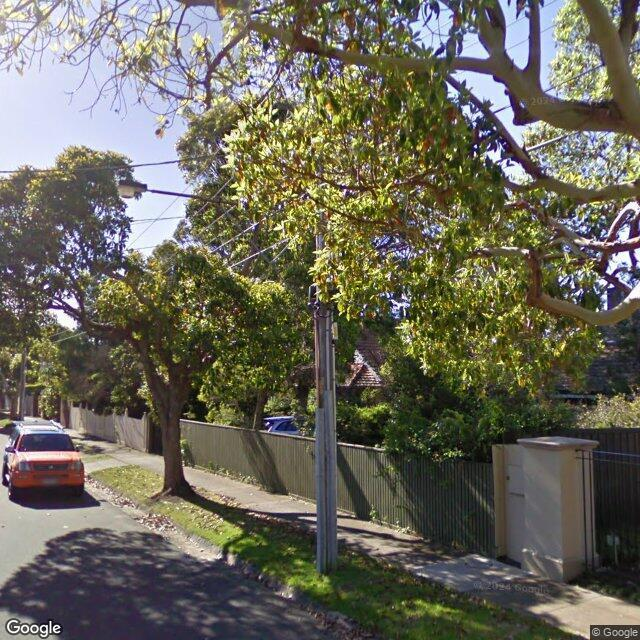streetlight: (118, 178, 316, 220)
timber-pole: (317, 180, 341, 572)
